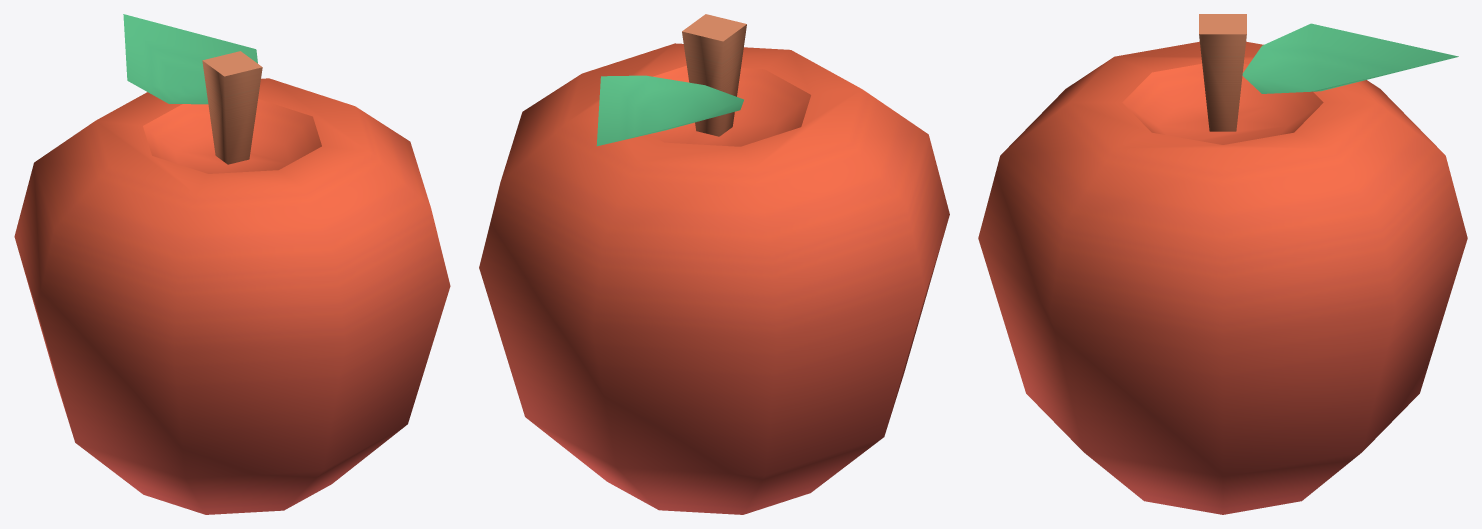
Rendered from apple.glb.
3 views of the same model, side by side, from view 1: azimuth 30°, elevation 25°; view 2: azimuth 150°, elevation 25°; view 3: azimuth 270°, elevation 25° (orthographic). The views are drawn at different scales.
Visible parts, largest first — view 1: apple, appleleaf; view 2: apple, appleleaf; view 3: apple, appleleaf.
Part boxes in pixels (box(x1,y1,x2,y2)): apple: box(14, 51, 450, 514); appleleaf: box(123, 14, 257, 104); apple: box(479, 14, 949, 514); appleleaf: box(596, 75, 743, 146); apple: box(978, 14, 1467, 514); appleleaf: box(1242, 23, 1458, 93).
Bounding box in the file's own units: 0.5 × 0.5 × 0.5.
1 material, 1 textured.
